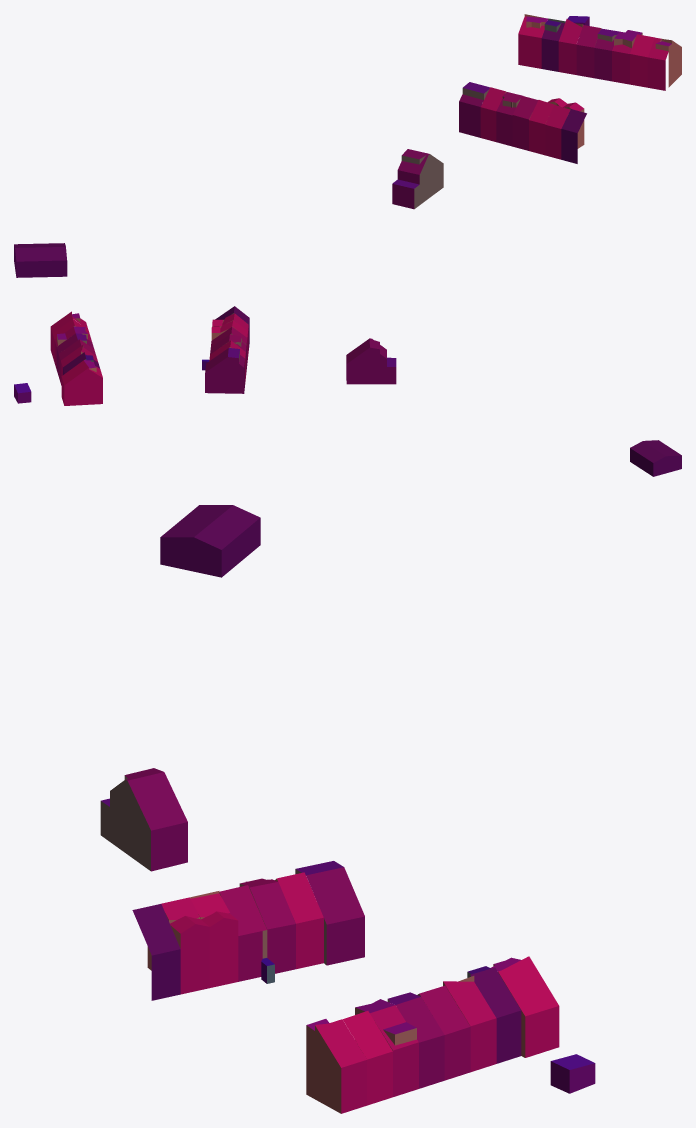
File: buildings_6_4.glb
3 views of the same model, one above another, from view 1: azimuth 30°, elevation 25°; view 2: azimuth 150°, elevation 25°; view 3: azimuth 270°, elevation 25° (orthographic). The views are drawn at different scales.
Visible parts, largest first — view 1: buildings_6_4; view 2: buildings_6_4; view 3: buildings_6_4.
Boxes of the visible parts, left/top/right/bottom form: buildings_6_4: left=14, top=14, right=681, bottom=277; buildings_6_4: left=14, top=306, right=681, bottom=476; buildings_6_4: left=100, top=505, right=595, bottom=1113.
Bounding box in the file's own units: 161 × 9.82 × 57.83.
